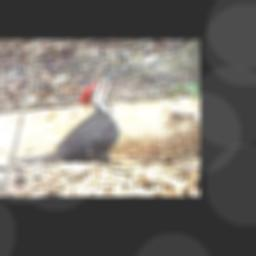Woodpecker: (23, 71, 120, 165)
